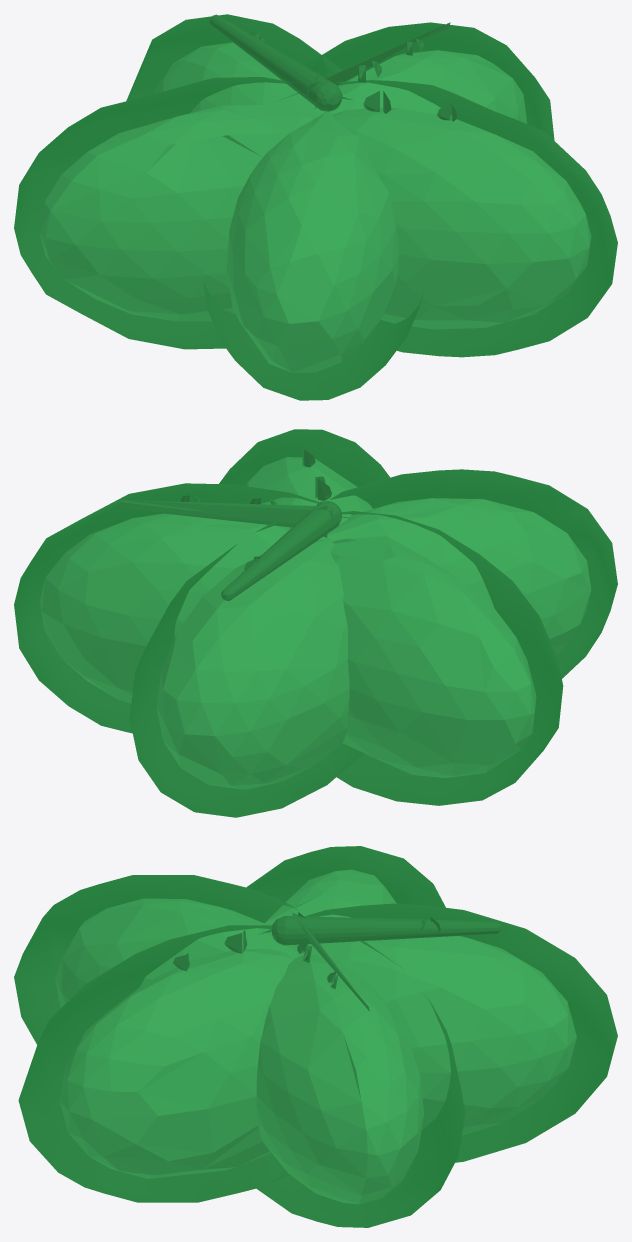
File: bush.glb
The picture shows the model from 3 angles, top to bottom: view 1: azimuth 30°, elevation 25°; view 2: azimuth 150°, elevation 25°; view 3: azimuth 270°, elevation 25°; orthographic projection.
Parts seen in each view (by area): view 1: Icosphere, Sphere.001, Sphere.010; view 2: Icosphere, Sphere.010, Sphere.001; view 3: Icosphere, Sphere.001, Sphere.010.
Boxes of the visible parts, bbox=[...] form: Icosphere: bbox=[14, 14, 617, 400]; Sphere.001: bbox=[209, 14, 342, 111]; Sphere.010: bbox=[305, 22, 450, 99]; Icosphere: bbox=[14, 429, 617, 817]; Sphere.010: bbox=[120, 500, 333, 530]; Sphere.001: bbox=[221, 501, 341, 600]; Icosphere: bbox=[14, 846, 617, 1227]; Sphere.001: bbox=[271, 916, 501, 945]; Sphere.010: bbox=[292, 913, 369, 1011].
Bounding box in the file's own units: 3.05 × 1.43 × 3.13.
